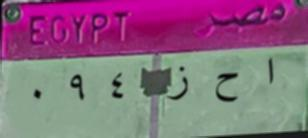0: (25, 82, 53, 106)
4: (103, 68, 130, 105)
7aa: (210, 67, 246, 108)
9: (66, 67, 90, 105)
alif: (260, 48, 278, 88)
zay: (166, 64, 193, 103)
